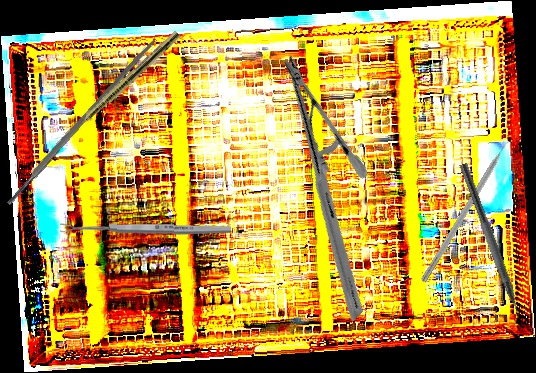Chopper: (420, 130, 523, 289), (448, 162, 529, 332)
Handpiece: (63, 28, 182, 141)
Needle Holder: (190, 53, 456, 322)
Scalpel Handle: (4, 36, 158, 207)
Surgical Spoon: (59, 221, 232, 236)
